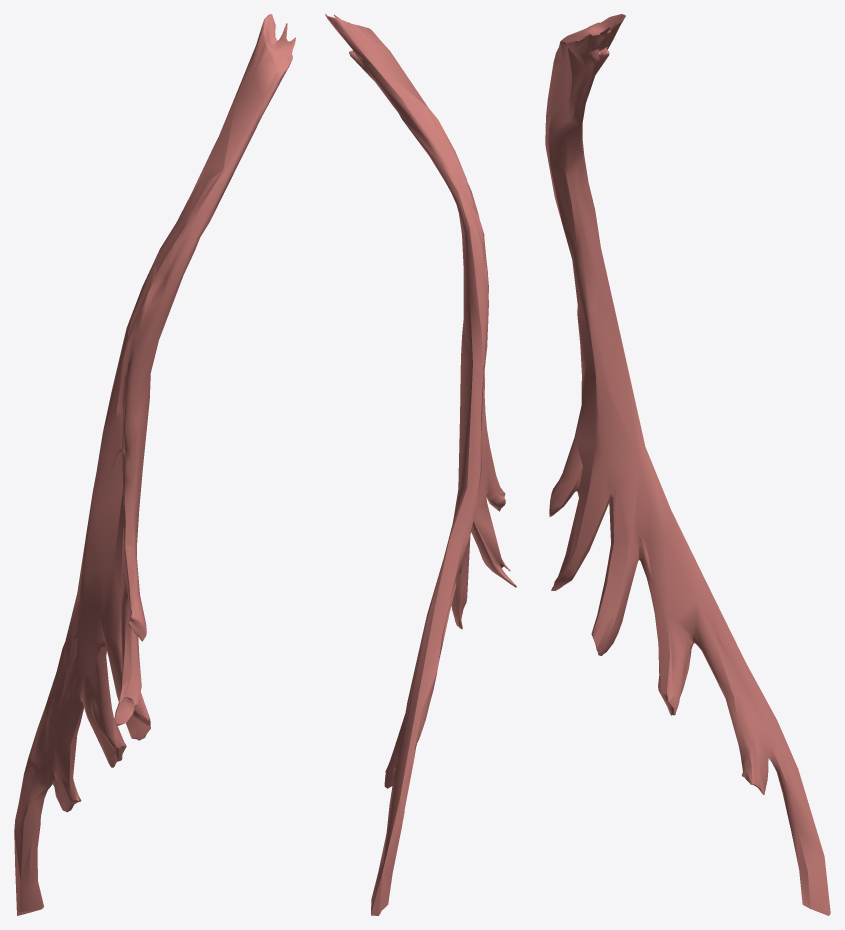
Rendered from fma22756_fj1533m.glb.
3 views of the same model, side by side, from view 1: azimuth 30°, elevation 25°; view 2: azimuth 150°, elevation 25°; view 3: azimuth 270°, elevation 25° (orthographic). The views are drawn at different scales.
Visible parts, largest first — view 1: FMA22756_FJ1533M; view 2: FMA22756_FJ1533M; view 3: FMA22756_FJ1533M.
Part boxes in pixels (box(x1,y1,x2,y2)): FMA22756_FJ1533M: box(14, 14, 295, 915); FMA22756_FJ1533M: box(325, 14, 516, 915); FMA22756_FJ1533M: box(545, 14, 830, 915).
Size of the model in its own units: 0.0364 by 0.1653 by 0.0438.
